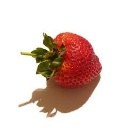strawberry: (36, 30, 102, 88)
